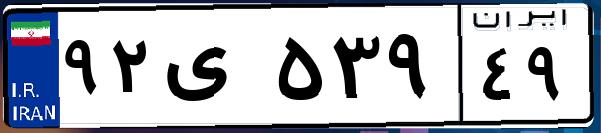2: (110, 28, 158, 98)
3: (330, 28, 385, 110)
4: (475, 38, 525, 113)
5: (270, 28, 330, 110)
9: (385, 28, 445, 110), (57, 26, 110, 100), (525, 38, 570, 115)
ی: (158, 20, 270, 120)
